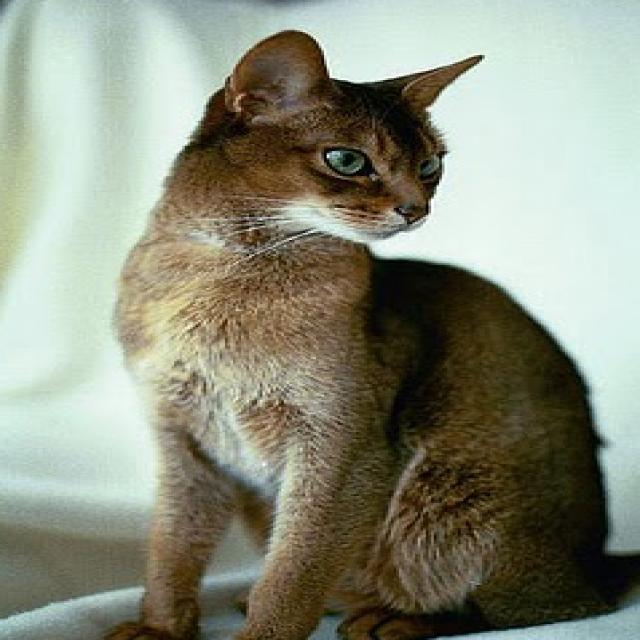Abyssinian: (99, 21, 640, 640)
